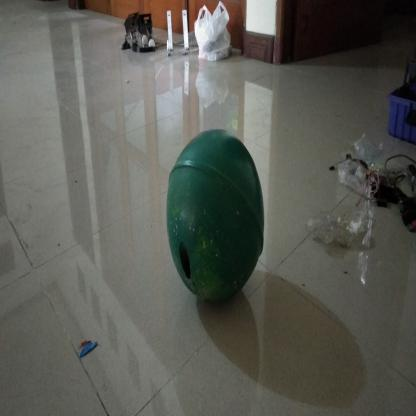green_buoy: (162, 124, 269, 310)
